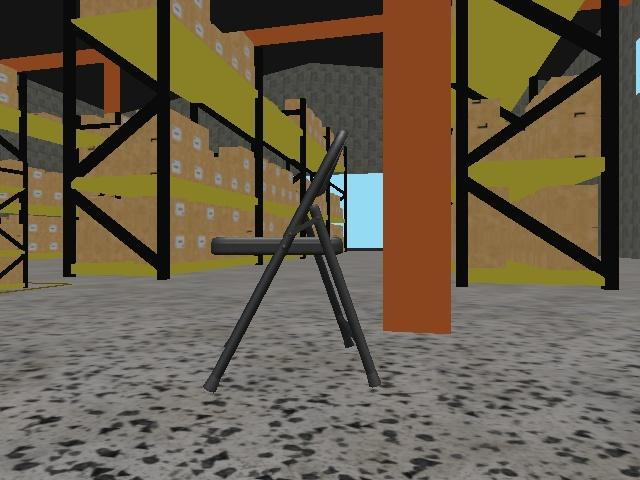chair: (200, 125, 384, 392)
